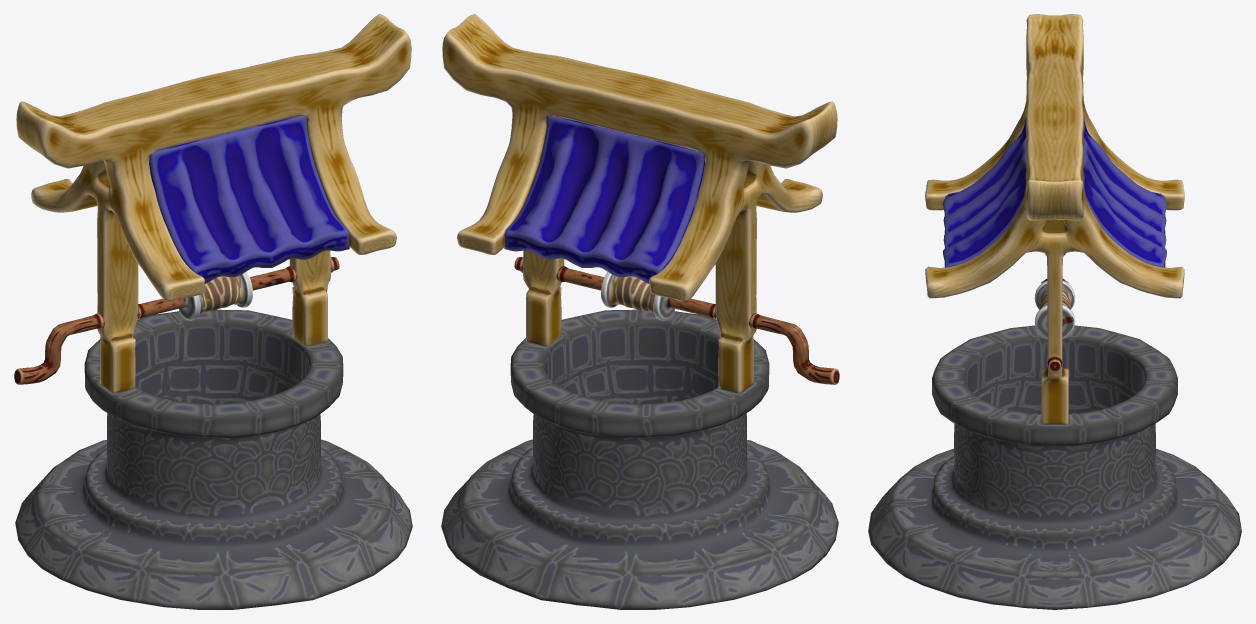
The model's file is pozo.gltf.
The picture shows the model from 3 angles, left to right: view 1: azimuth 30°, elevation 25°; view 2: azimuth 150°, elevation 25°; view 3: azimuth 270°, elevation 25°; orthographic projection. The views are drawn at different scales.
Parts seen in each view (by area): view 1: Retopo_Cylinder.004; view 2: Retopo_Cylinder.004; view 3: Retopo_Cylinder.004.
Part boxes in pixels (x1,y1,x2,y2): Retopo_Cylinder.004: (14,14,412,609); Retopo_Cylinder.004: (441,14,839,609); Retopo_Cylinder.004: (868,14,1241,609).
Bounding box in the file's own units: 2.19 × 2.51 × 1.96.
4 materials, 4 textured.
